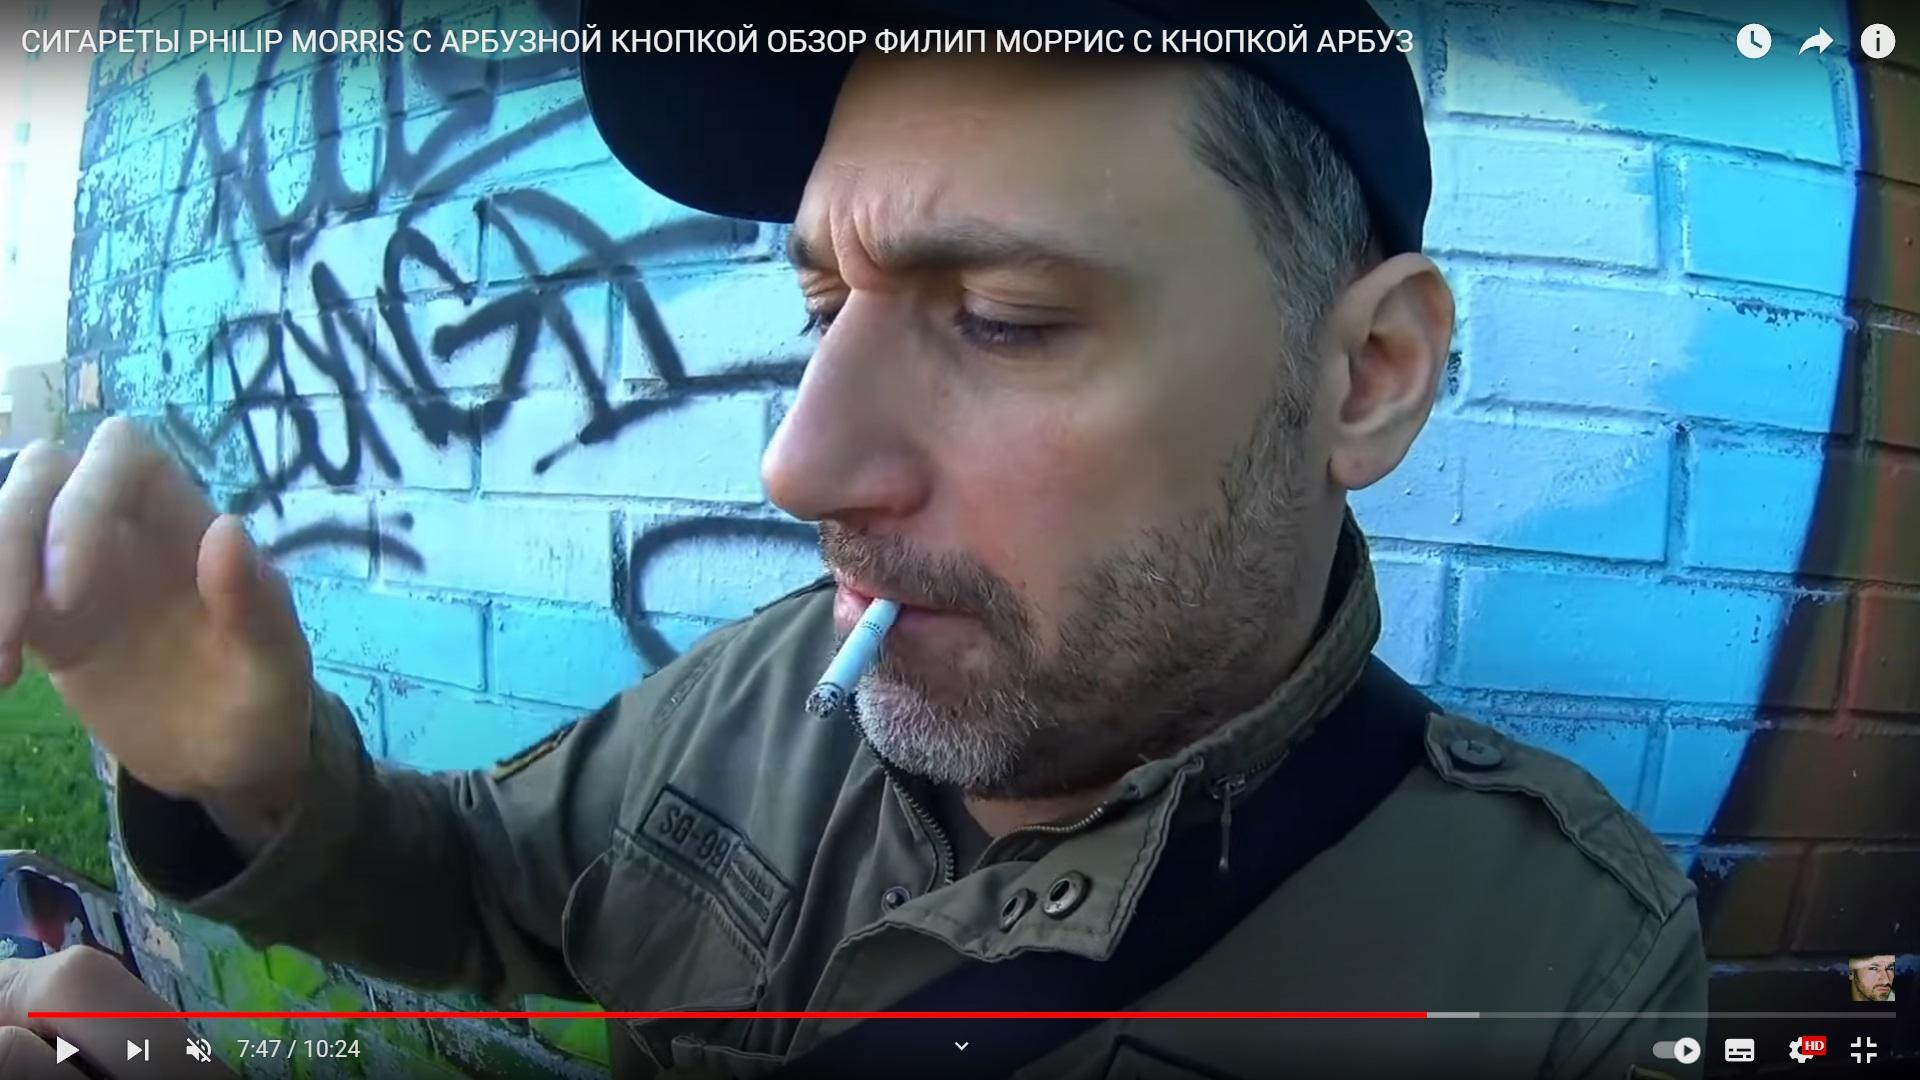cigarette: (806, 597, 905, 721)
